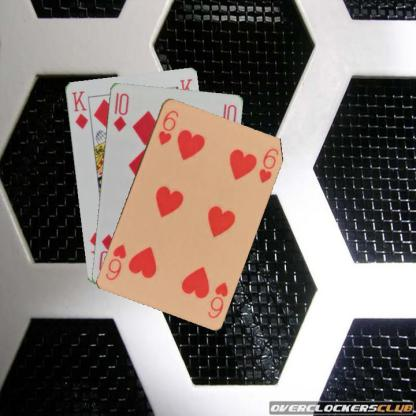10d: (110, 90, 130, 133)
6h: (205, 279, 229, 320), (155, 108, 180, 146)
Kd: (69, 88, 89, 130)
